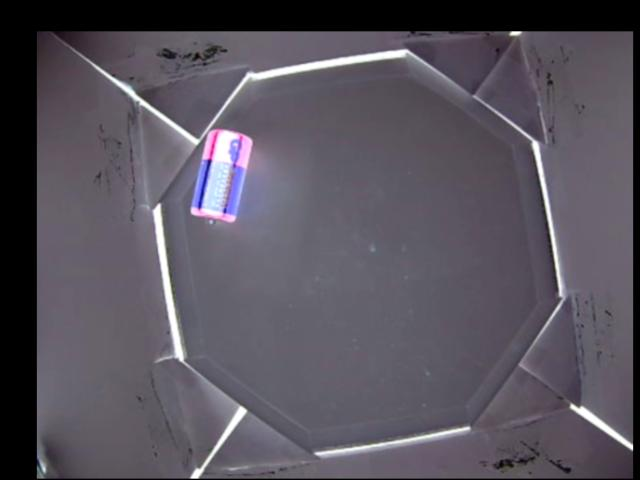Battery: (190, 129, 252, 227)
